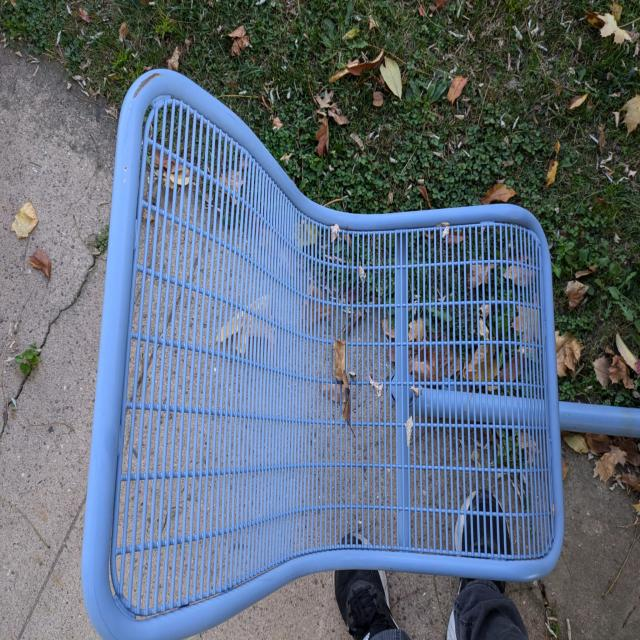Crevice Corrosion: (128, 65, 171, 106)
